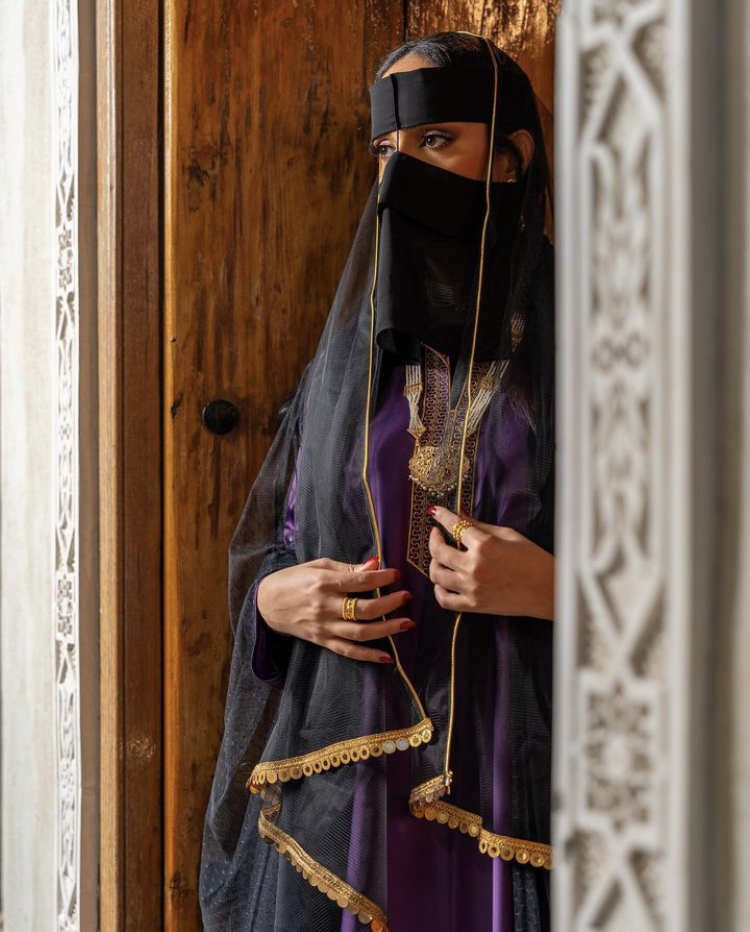Saudi_Founding_Day: (191, 26, 557, 932)
